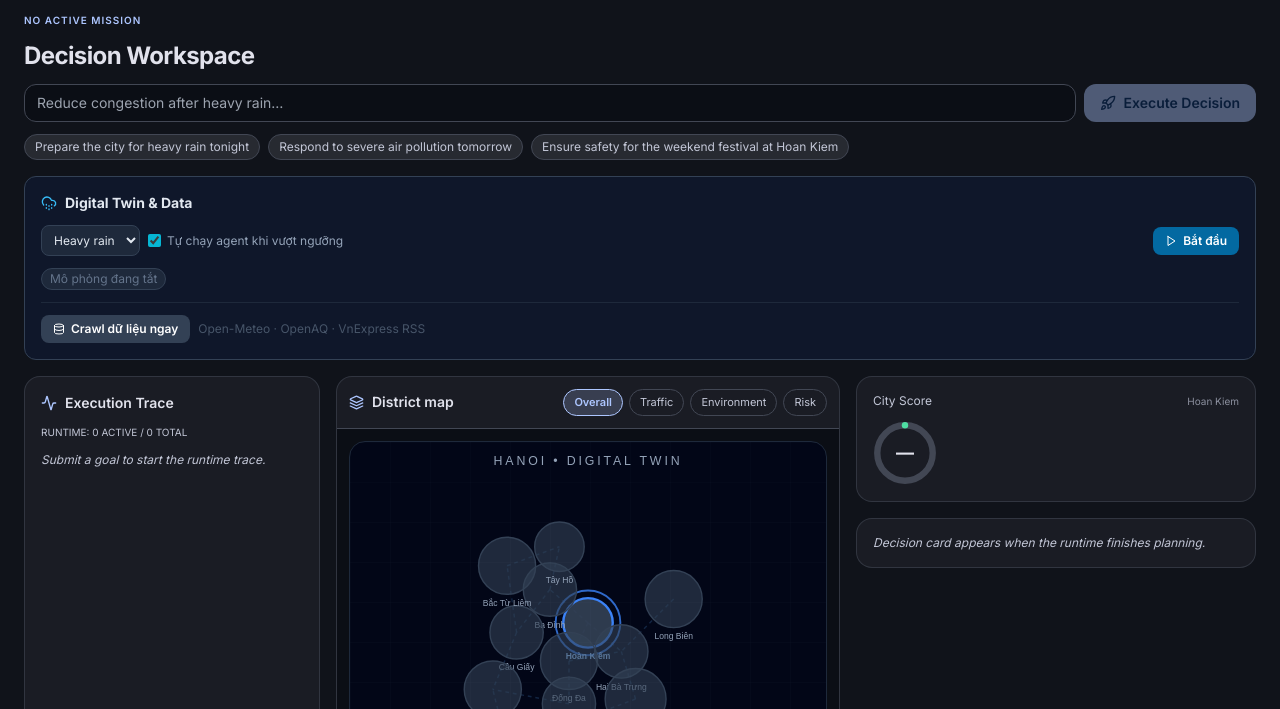
Test: DecisionWorkspacePage › closes the evidence modal when the Escape key is pressed
Type "Reduce congestion after rain" into the field with placeholder "Reduce congestion after heavy rain…" at (550, 103), box [24,84,1076,122]
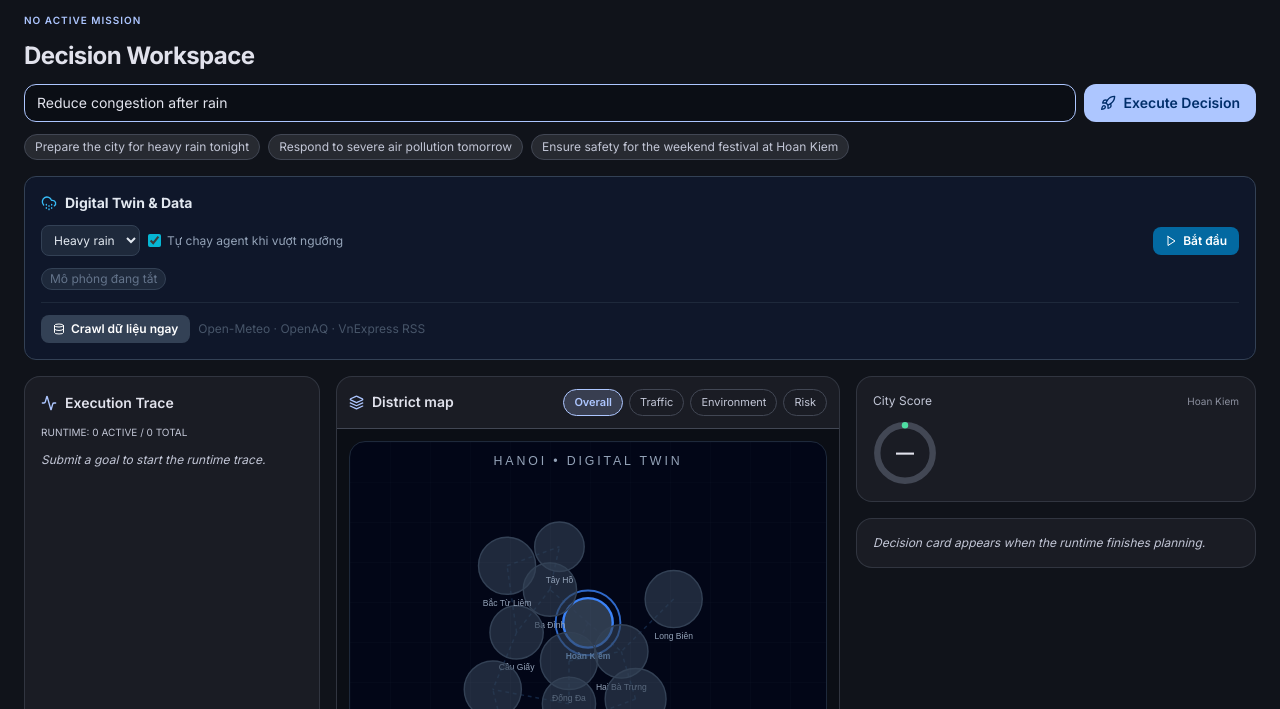
Click the button "Execute Decision" at (1170, 103), box [1084,84,1256,122]
(page scrolled)
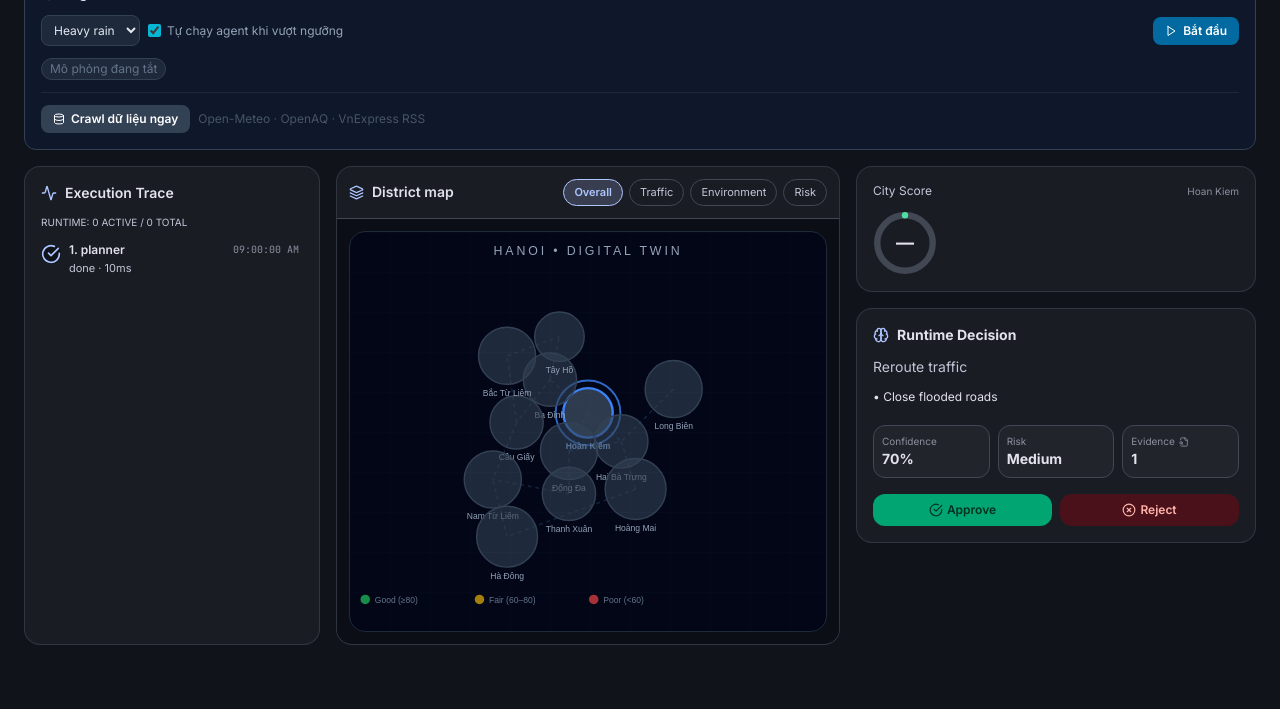
Now the button with test id "decision-evidence-toggle" is shown
Click the button with test id "decision-evidence-toggle" at (1181, 452), box [1122,425,1239,478]
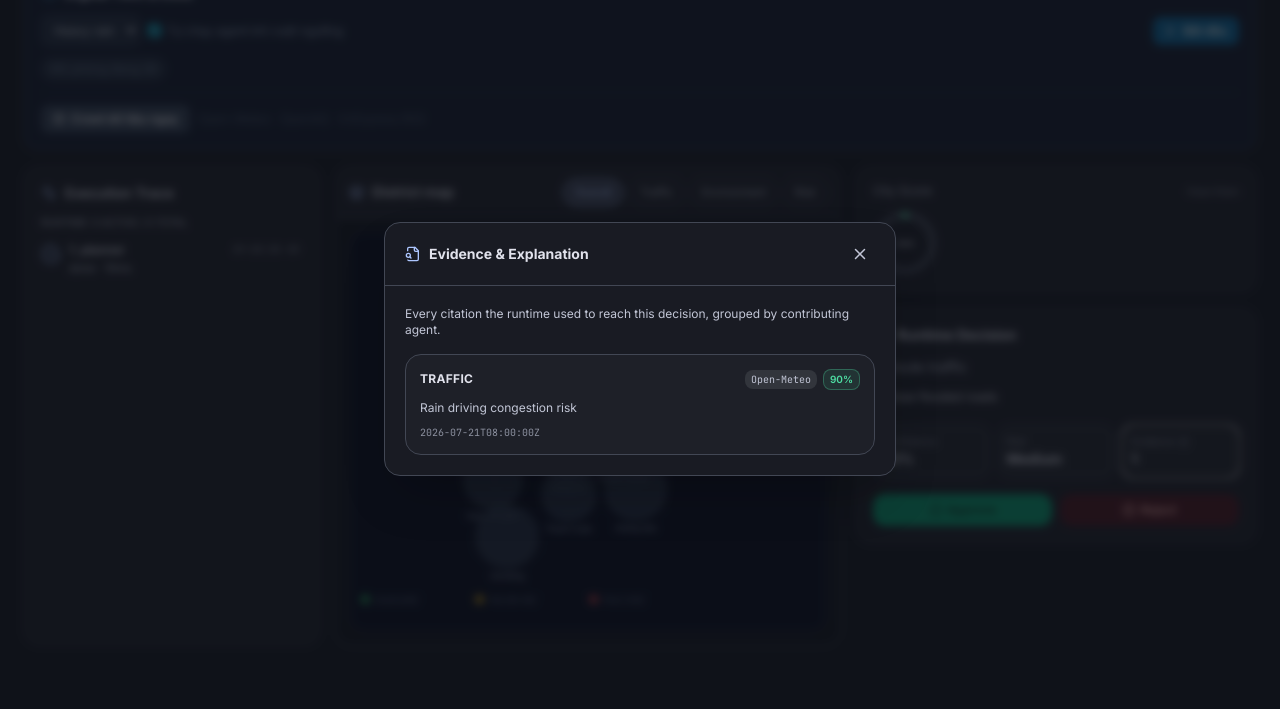
Now the dialog with test id "decision-evidence-modal" is shown, box [384,222,896,476]
Press Escape
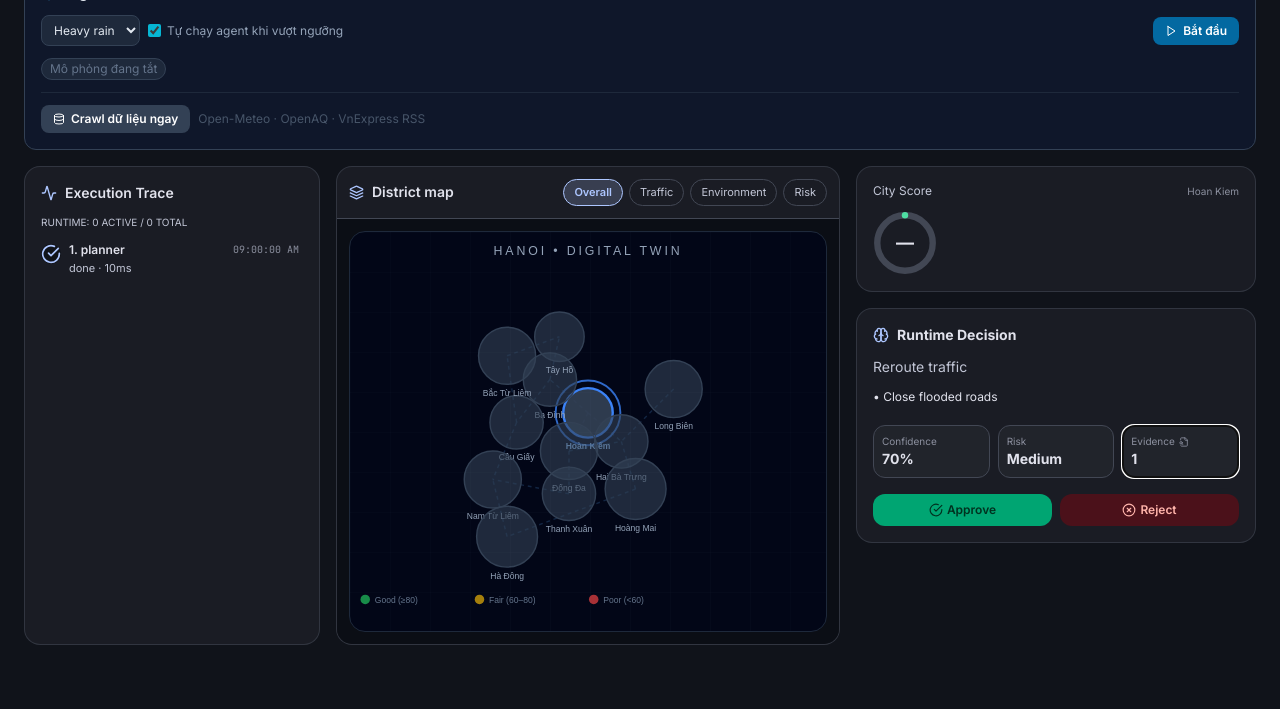
Now the dialog with test id "decision-evidence-modal" is gone
